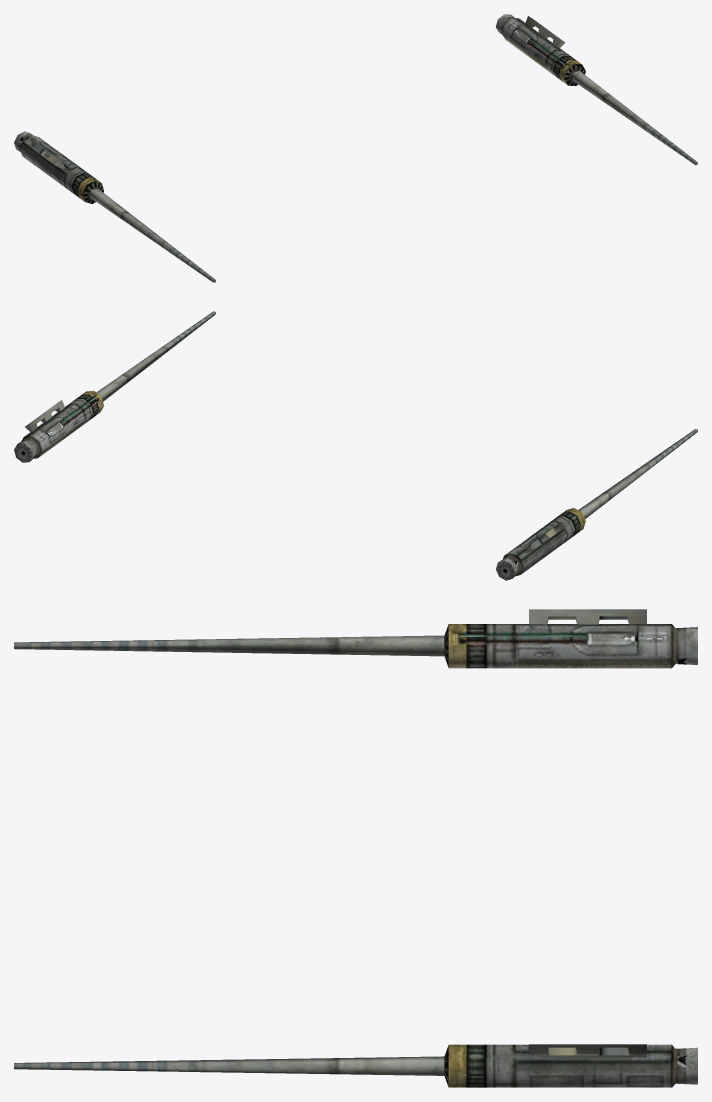
The model's file is hutt_fighter_medium_weapon1_s01_l1.fbx.
3 views of the same model, one above another, from view 1: azimuth 30°, elevation 25°; view 2: azimuth 150°, elevation 25°; view 3: azimuth 270°, elevation 25° (orthographic). The views are drawn at different scales.
Parts seen in each view (by area): view 1: mesh_node; view 2: mesh_node; view 3: mesh_node.
Part boxes in pixels (box(x1,y1,x2,y2)): mesh_node: box(14, 14, 697, 282); mesh_node: box(14, 311, 697, 580); mesh_node: box(14, 609, 697, 1087).
Bounding box in the file's own units: 13.67 × 0.7204 × 8.92.
